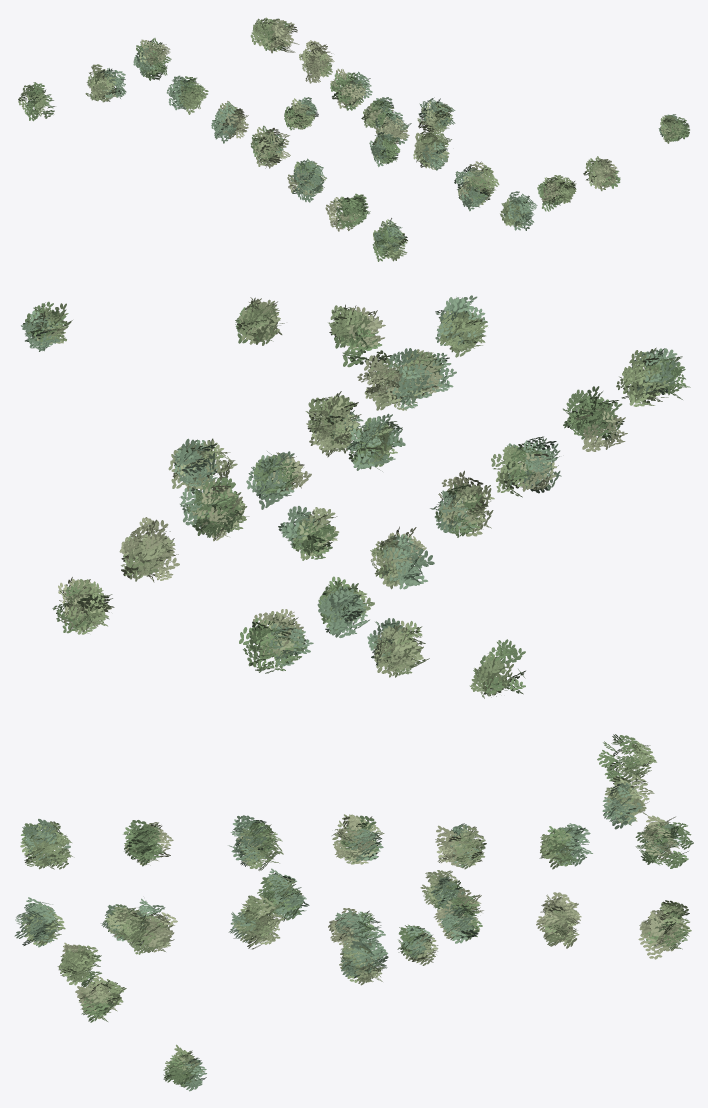
The model's file is campus-tree-3_-4-far.glb.
The picture shows the model from 3 angles, top to bottom: view 1: azimuth 30°, elevation 25°; view 2: azimuth 150°, elevation 25°; view 3: azimuth 270°, elevation 25°; orthographic projection. The views are drawn at different scales.
Visible parts, largest first — view 1: Campus leaf canopy; view 2: Campus leaf canopy; view 3: Campus leaf canopy.
Boxes of the visible parts, x1,y1,x2,y2 form: Campus leaf canopy: [18, 17, 689, 261]; Campus leaf canopy: [21, 295, 690, 698]; Campus leaf canopy: [14, 734, 693, 1091].
Size of the model in its own units: 80 by 8.38 by 73.71.
Materials: 1 (1 with a texture image).
